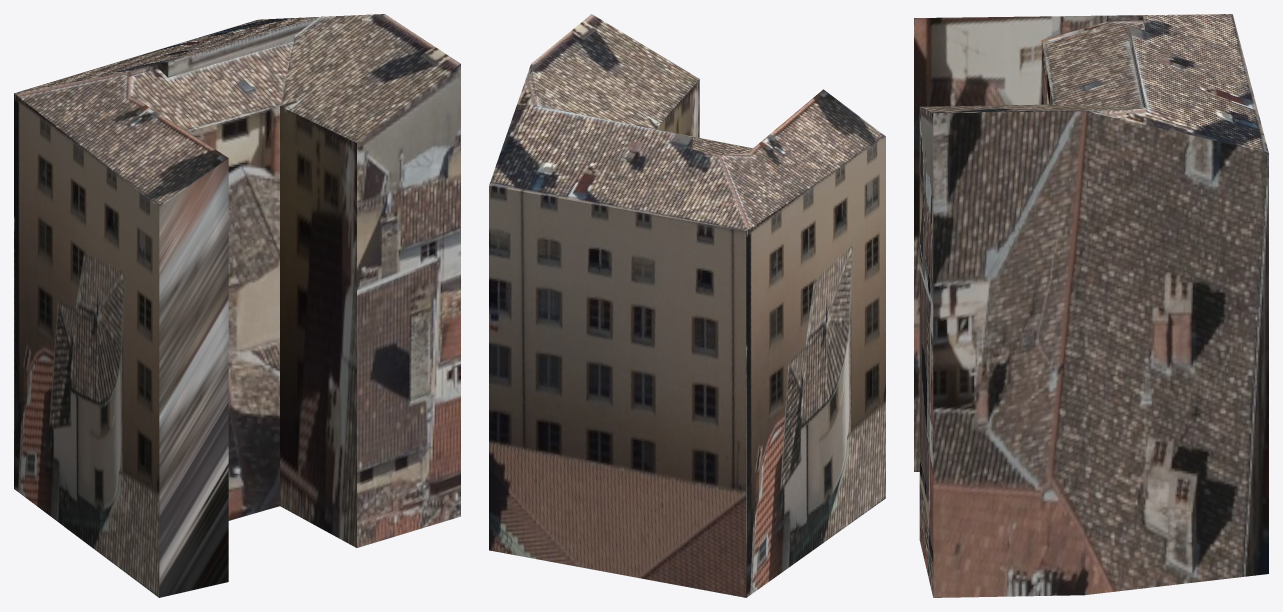
The picture shows the model from 3 angles, left to right: view 1: azimuth 30°, elevation 25°; view 2: azimuth 150°, elevation 25°; view 3: azimuth 270°, elevation 25°; orthographic projection. The views are drawn at different scales.
Parts seen in each view (by area): view 1: Z_UP; view 2: Z_UP; view 3: Z_UP.
Part boxes in pixels (left/top/right/bottom): Z_UP: left=14, top=14, right=460, bottom=597; Z_UP: left=489, top=14, right=885, bottom=597; Z_UP: left=914, top=14, right=1268, bottom=597.
Bounding box in the file's own units: 17.41 × 24.33 × 16.13.
Materials: 2 (1 with a texture image).
